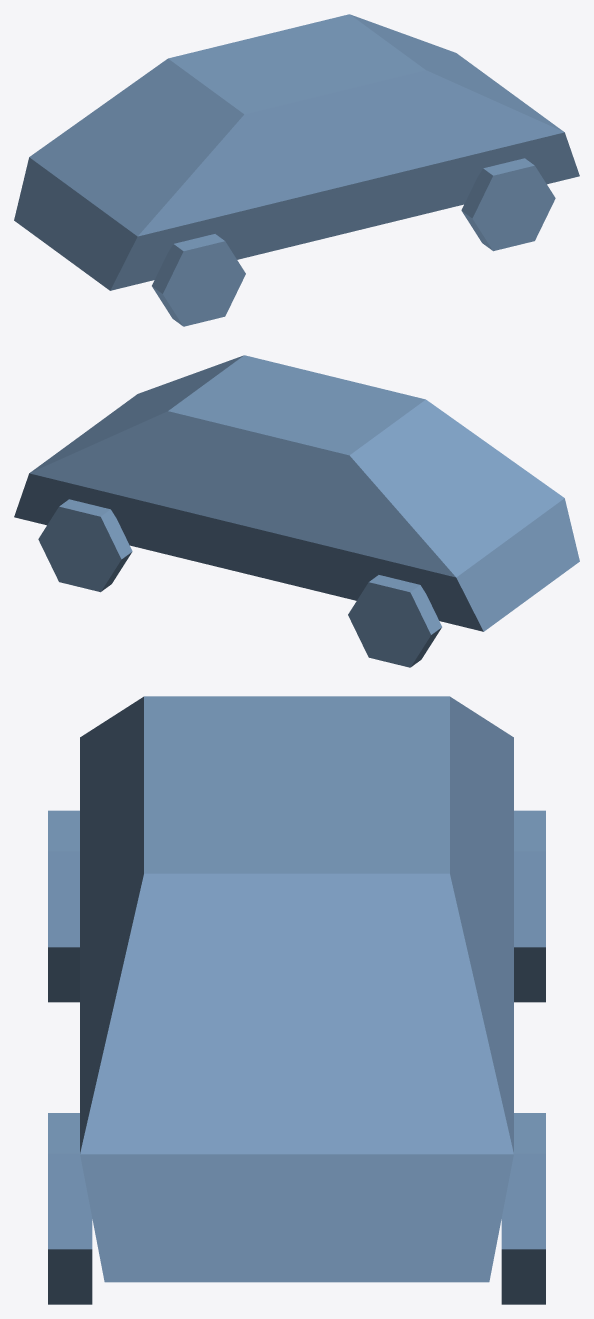
The model's file is demo-car.glb.
3 views of the same model, one above another, from view 1: azimuth 30°, elevation 25°; view 2: azimuth 150°, elevation 25°; view 3: azimuth 270°, elevation 25° (orthographic). The views are drawn at different scales.
Parts seen in each view (by area): view 1: world; view 2: world; view 3: world.
Boxes of the visible parts, x1,y1,x2,y2 form: world: [14, 14, 579, 326]; world: [14, 355, 579, 667]; world: [48, 696, 545, 1304].
Size of the model in its own units: 4.4 by 1.56 by 2.02.
